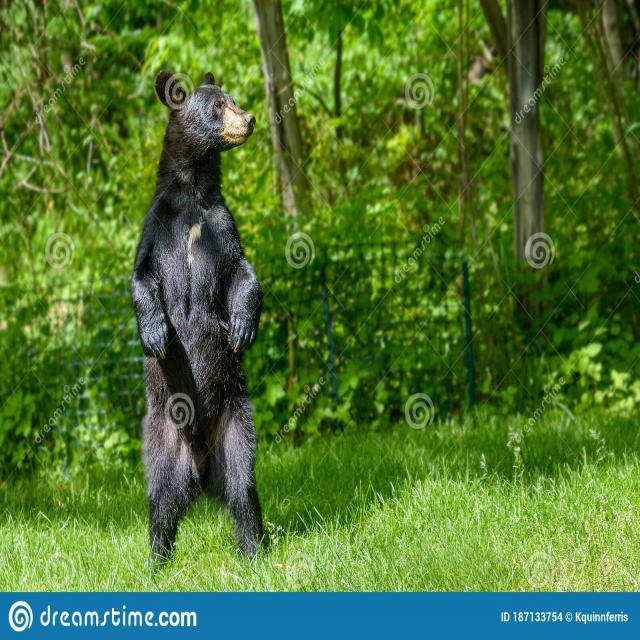Bear: (130, 71, 266, 566)
